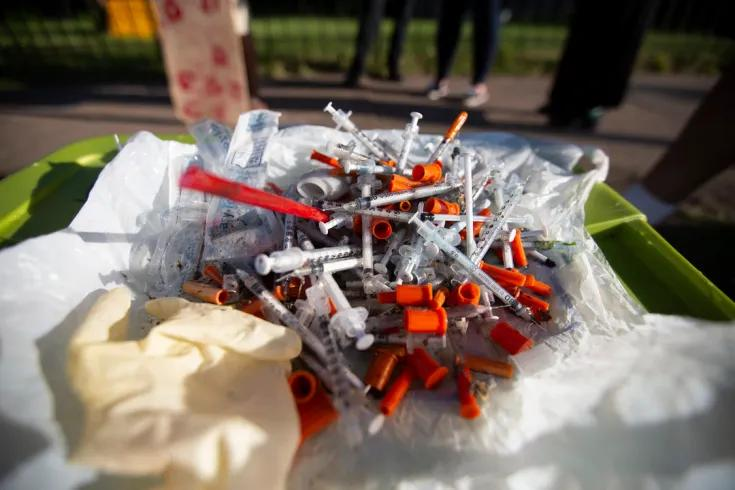Glove: (68, 288, 300, 489)
Syringe: (410, 213, 533, 321), (307, 276, 362, 446), (237, 269, 327, 362), (237, 269, 325, 358), (469, 185, 522, 263), (319, 273, 373, 349), (324, 102, 390, 159), (343, 181, 461, 209), (254, 245, 361, 274), (428, 111, 467, 161), (459, 154, 475, 253), (395, 235, 427, 284), (396, 112, 422, 171), (288, 257, 362, 277), (375, 333, 446, 353), (373, 229, 405, 273), (299, 351, 333, 391), (296, 222, 340, 246), (346, 208, 413, 222), (326, 140, 369, 160), (343, 160, 395, 174), (319, 213, 352, 234), (501, 224, 516, 269), (445, 304, 488, 319), (361, 216, 372, 273), (527, 250, 555, 267), (305, 198, 343, 210), (282, 215, 295, 249)
